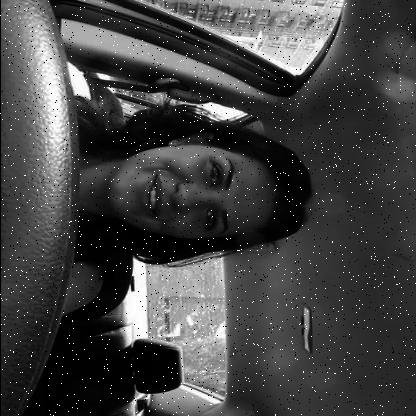no_seatbelt: (0, 79, 321, 276)
